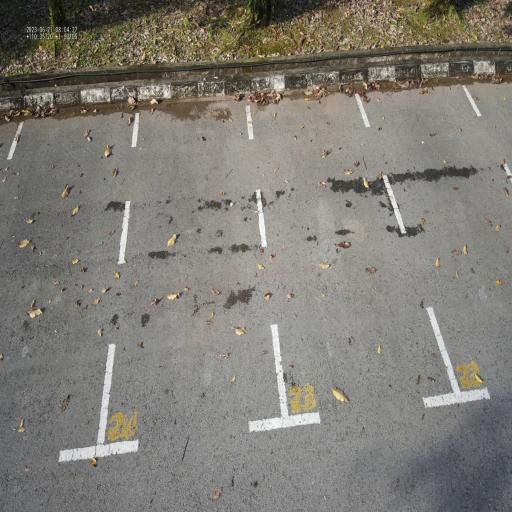Empty: (242, 82, 464, 442), (91, 80, 294, 466)
